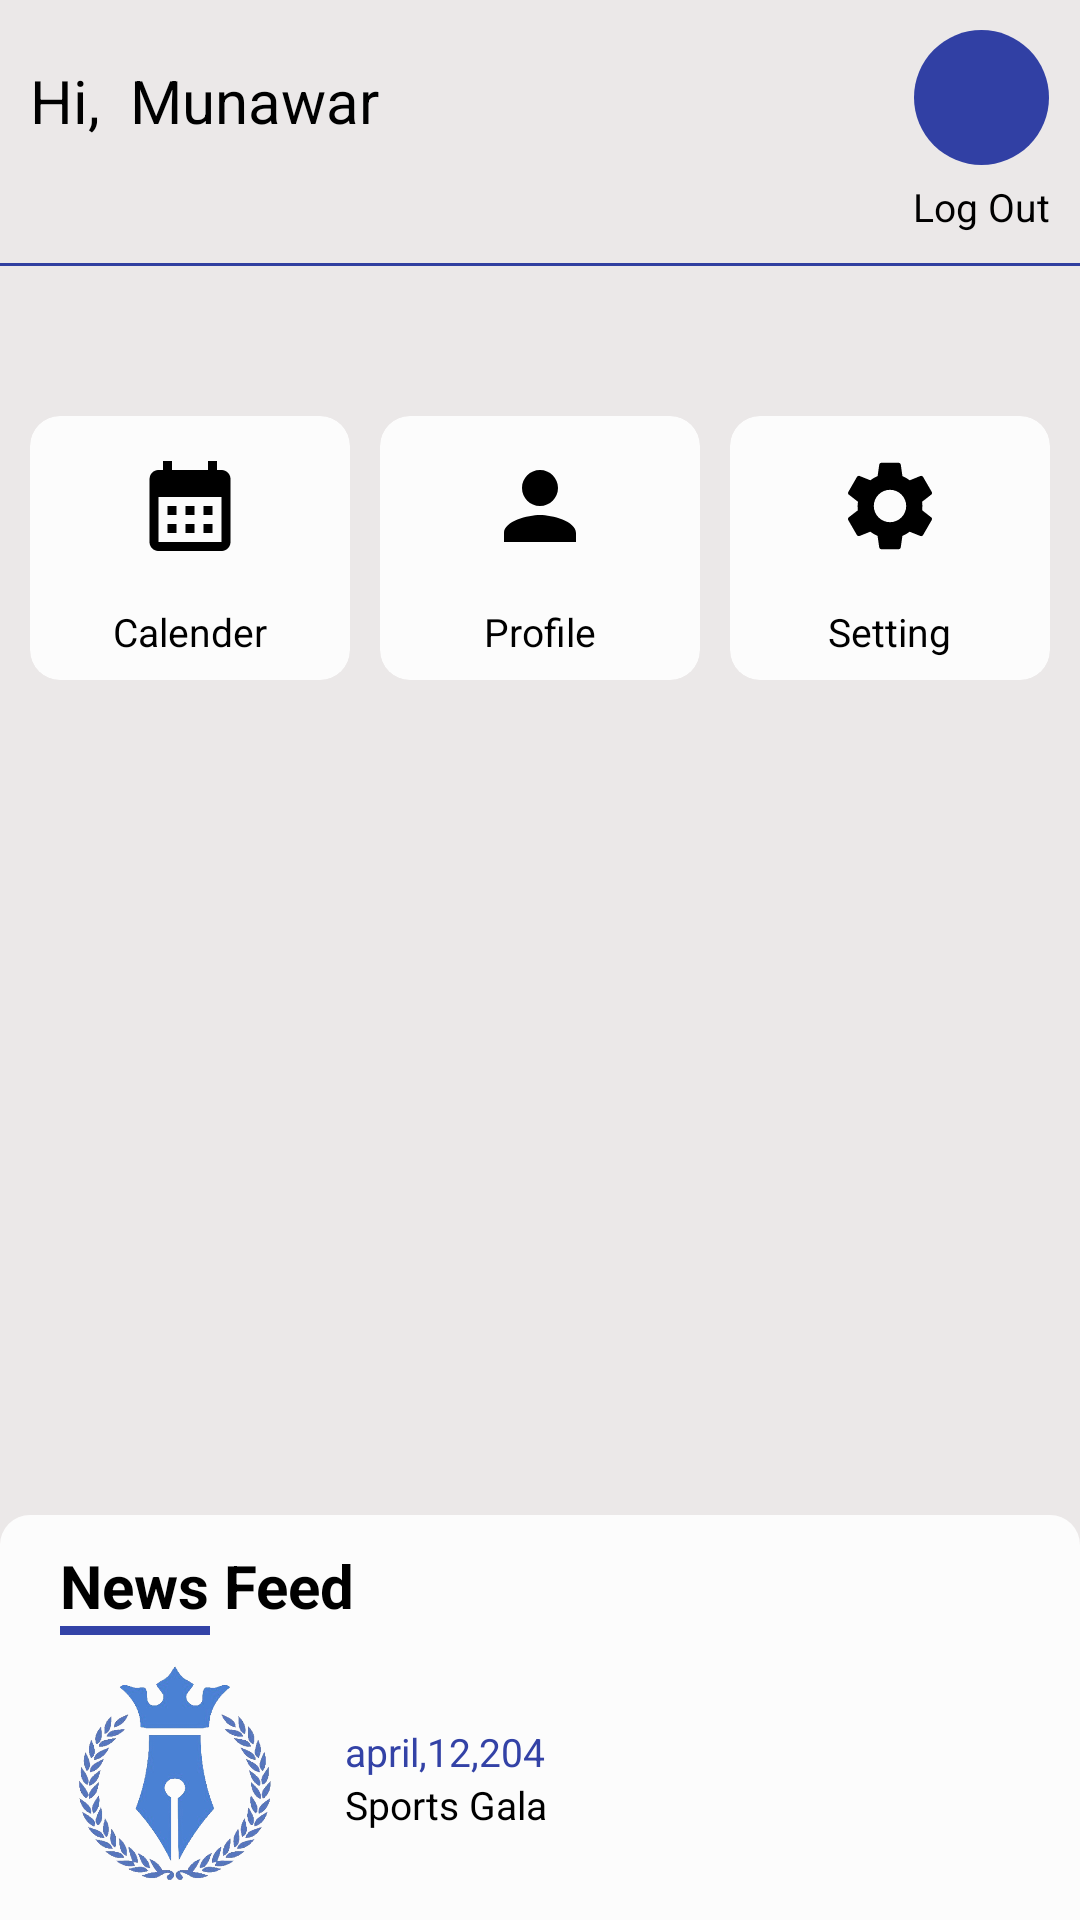

Where to tap for icons on this 1080x1920 app screen, as point (x, y):
calendar: point (190, 506)
